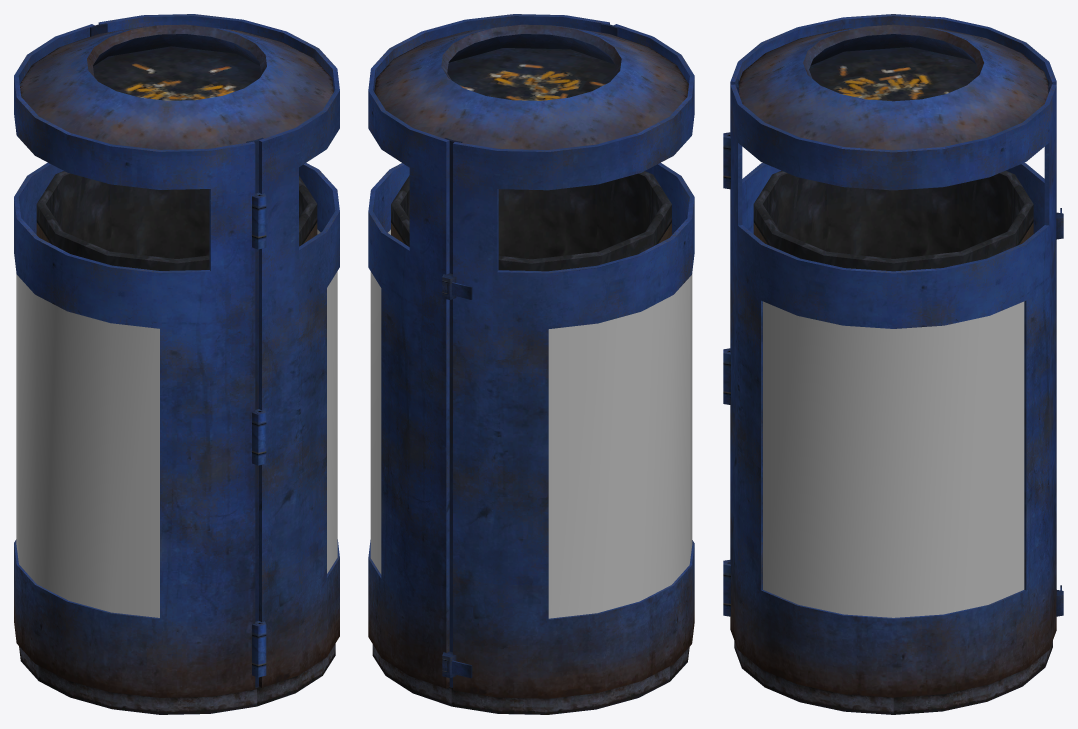
The model's file is prop_bin_02a.obj.
3 views of the same model, side by side, from view 1: azimuth 30°, elevation 25°; view 2: azimuth 150°, elevation 25°; view 3: azimuth 270°, elevation 25° (orthographic).
Size of the model in its own units: 0.5596 by 1.1 by 0.5815.
Materials: 2 (1 with a texture image).
